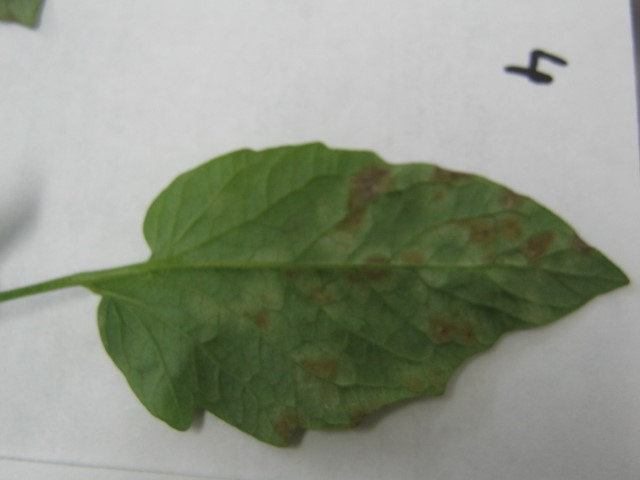cladosporium: (338, 164, 397, 234), (467, 213, 521, 245), (304, 348, 343, 388), (523, 227, 558, 264), (357, 249, 395, 281), (430, 309, 462, 345), (273, 409, 302, 442), (246, 305, 271, 334)
